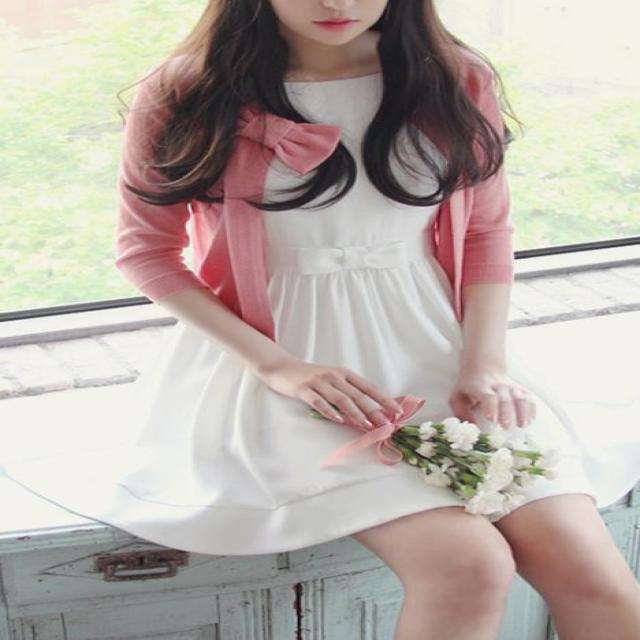short-sleeve-outwear: (98, 38, 611, 564)
